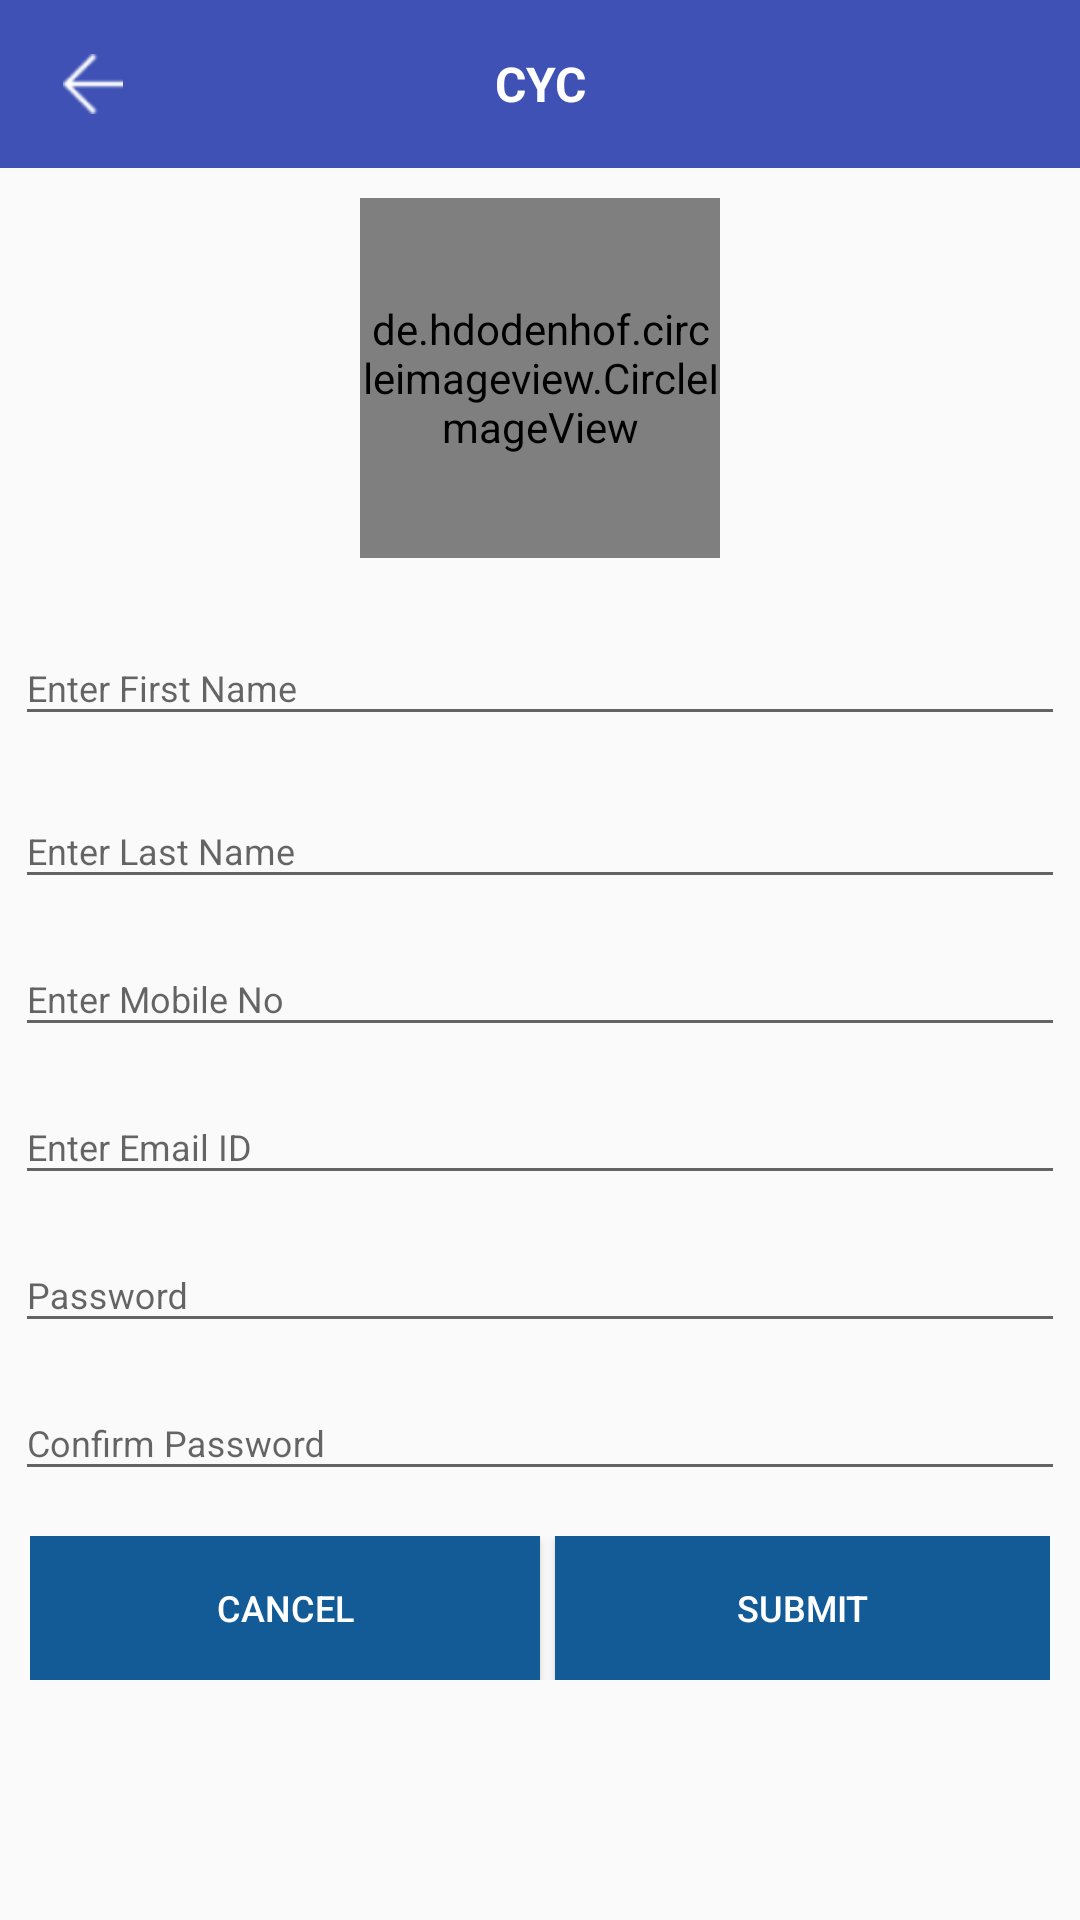

Point at icon controls on the screen. Image size 1080×1920, points as (x=x, y=y).
left arrow back: (x=93, y=84)
